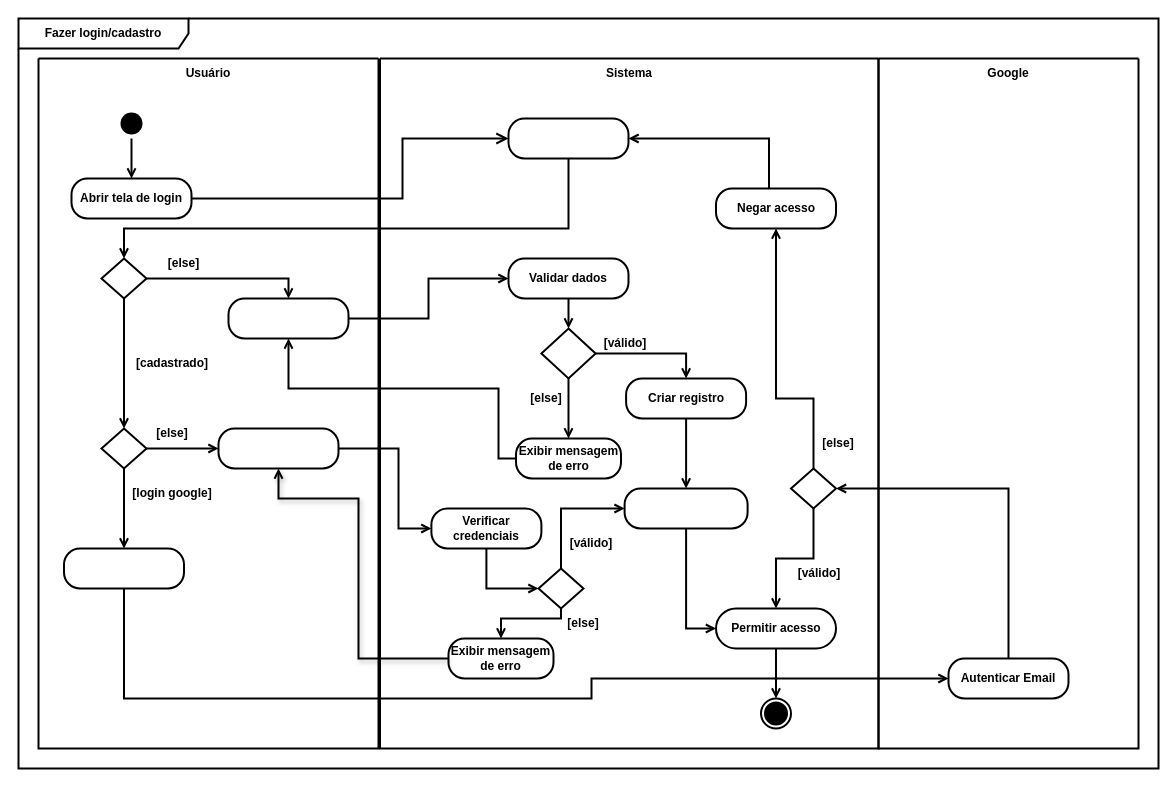
Some shapes in this 1176 by 786 pixel diagram are drawn without their labels. Each missing label, with the centre of its shape:
"Exibir Formulário" belongs at [568,138].
"Exibir mensagem de sucesso" belongs at [685,508].
"Inserir email e senha" belongs at [278,448].
"Preencher cadastro" belongs at [288,318].
"Selecionar Email" belongs at [123,568].
